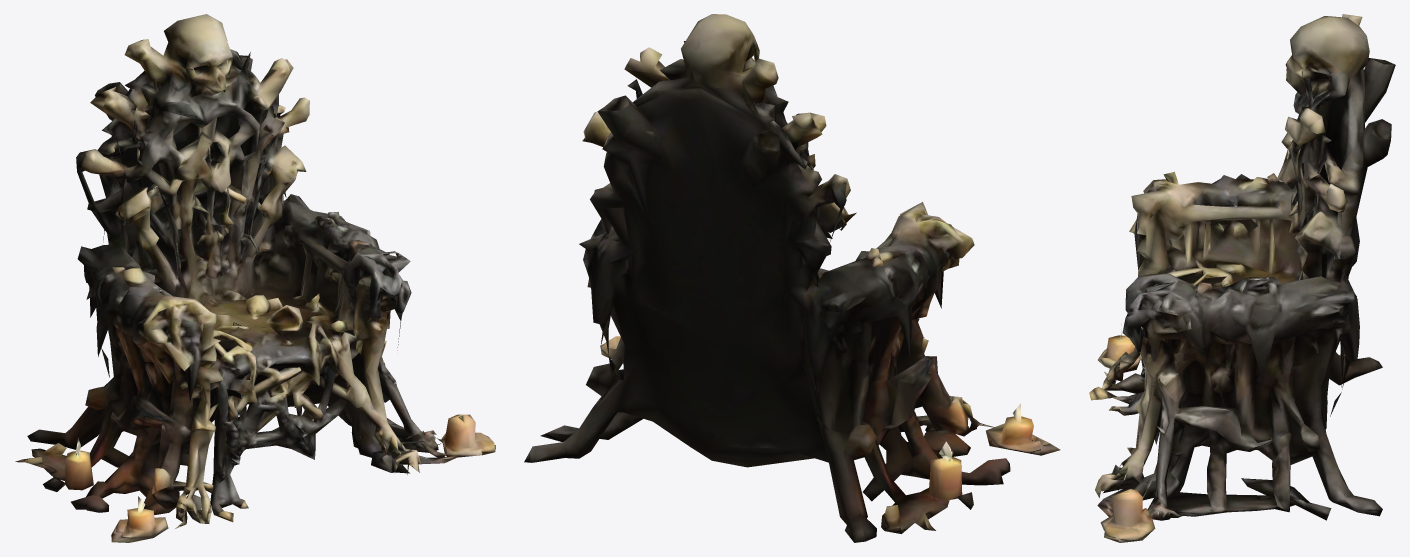
Rendered from bone_throne.glb.
3 renders of one model, left to right at view 1: azimuth 30°, elevation 25°; view 2: azimuth 150°, elevation 25°; view 3: azimuth 270°, elevation 25°, orthographic. The views are drawn at different scales.
Visible parts, largest first — view 1: tripo_node_d195b5af-ebca-4cba-987e-52fffefc1cc8; view 2: tripo_node_d195b5af-ebca-4cba-987e-52fffefc1cc8; view 3: tripo_node_d195b5af-ebca-4cba-987e-52fffefc1cc8.
Part boxes in pixels (bbox=[...]): tripo_node_d195b5af-ebca-4cba-987e-52fffefc1cc8: bbox=[15, 14, 495, 542]; tripo_node_d195b5af-ebca-4cba-987e-52fffefc1cc8: bbox=[524, 14, 1060, 542]; tripo_node_d195b5af-ebca-4cba-987e-52fffefc1cc8: bbox=[1089, 14, 1395, 542].
Size of the model in its own units: 0.9751 by 0.9683 by 0.635.
1 material, 1 textured.
